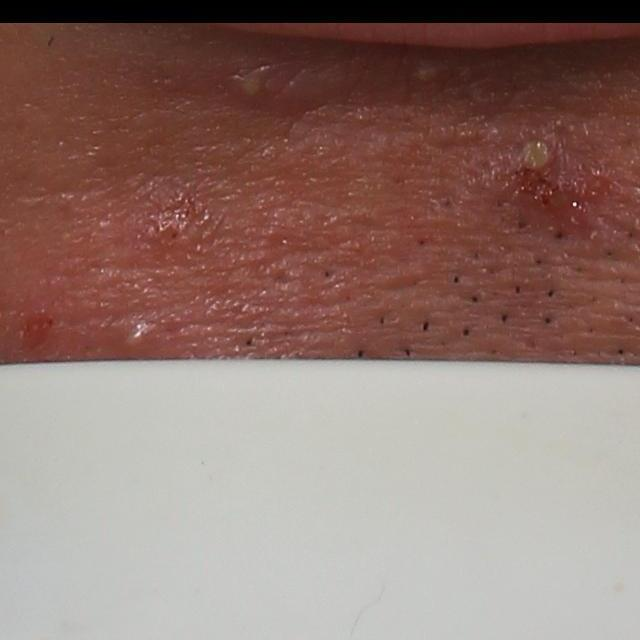pustule: (488, 111, 595, 205), (227, 55, 280, 105), (405, 54, 454, 93), (115, 319, 159, 358)
